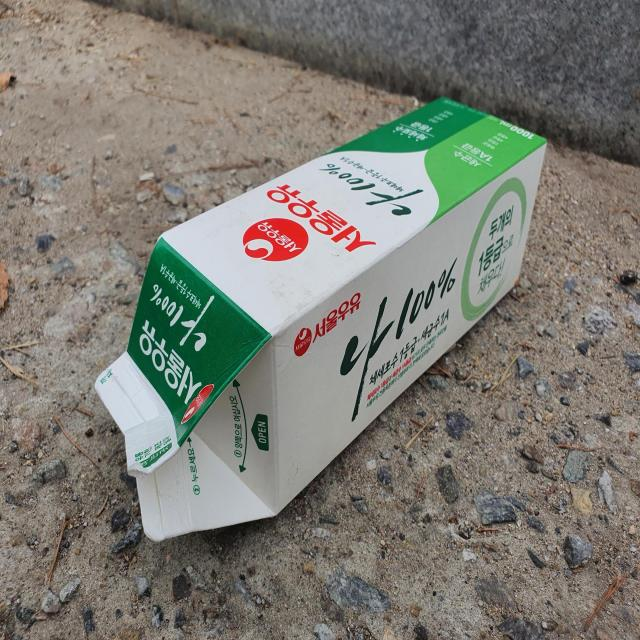paperpack: (94, 97, 546, 541)
